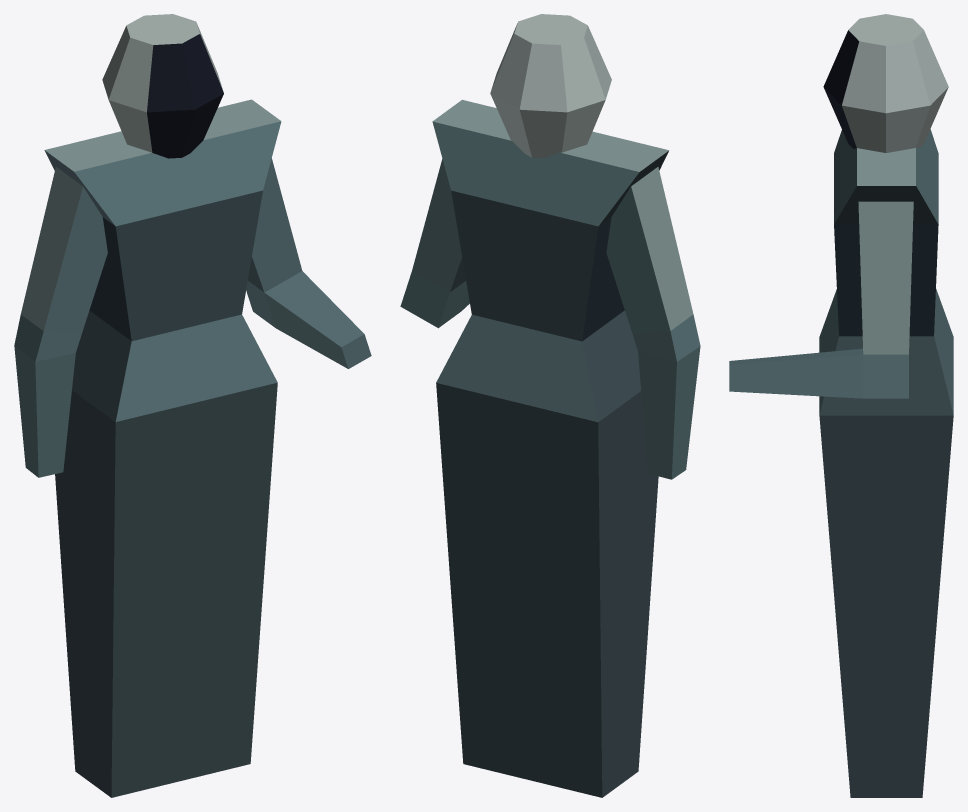
Rendered from Archer.glb.
3 renders of one model, left to right at view 1: azimuth 30°, elevation 25°; view 2: azimuth 150°, elevation 25°; view 3: azimuth 270°, elevation 25°, orthographic.
Visible parts, largest first — view 1: Soldier, Soldier.002, Soldier.001; view 2: Soldier, Soldier.002, Soldier.001; view 3: Soldier, Soldier.001.
Part boxes in pixels (left/top/right/bottom): Soldier: left=44, top=14, right=281, bottom=797; Soldier.002: left=14, top=167, right=107, bottom=477; Soldier.001: left=246, top=158, right=371, bottom=368; Soldier: left=432, top=14, right=668, bottom=797; Soldier.002: left=606, top=167, right=700, bottom=479; Soldier.001: left=400, top=159, right=469, bottom=328; Soldier: left=819, top=14, right=953, bottom=797; Soldier.001: left=729, top=201, right=913, bottom=398.
Bounding box in the file's own units: 0.745 × 1.89 × 0.5239.
Materials: 1 (1 with a texture image).
